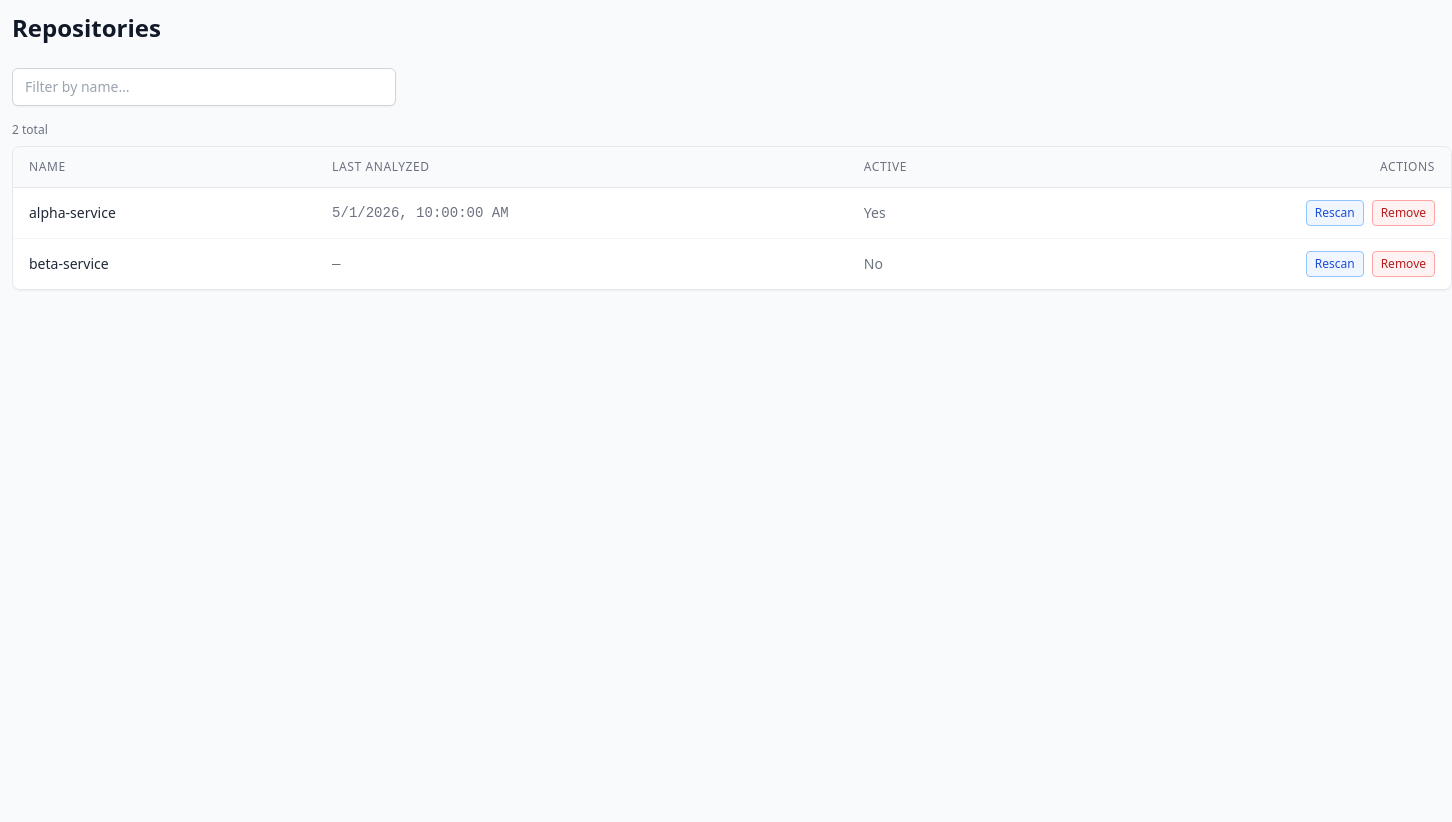
RepositoriesPage › shows success toast after Remove
Click the button "Remove" in the row of "beta-service" at [1403, 264], box [1372,251,1435,277]
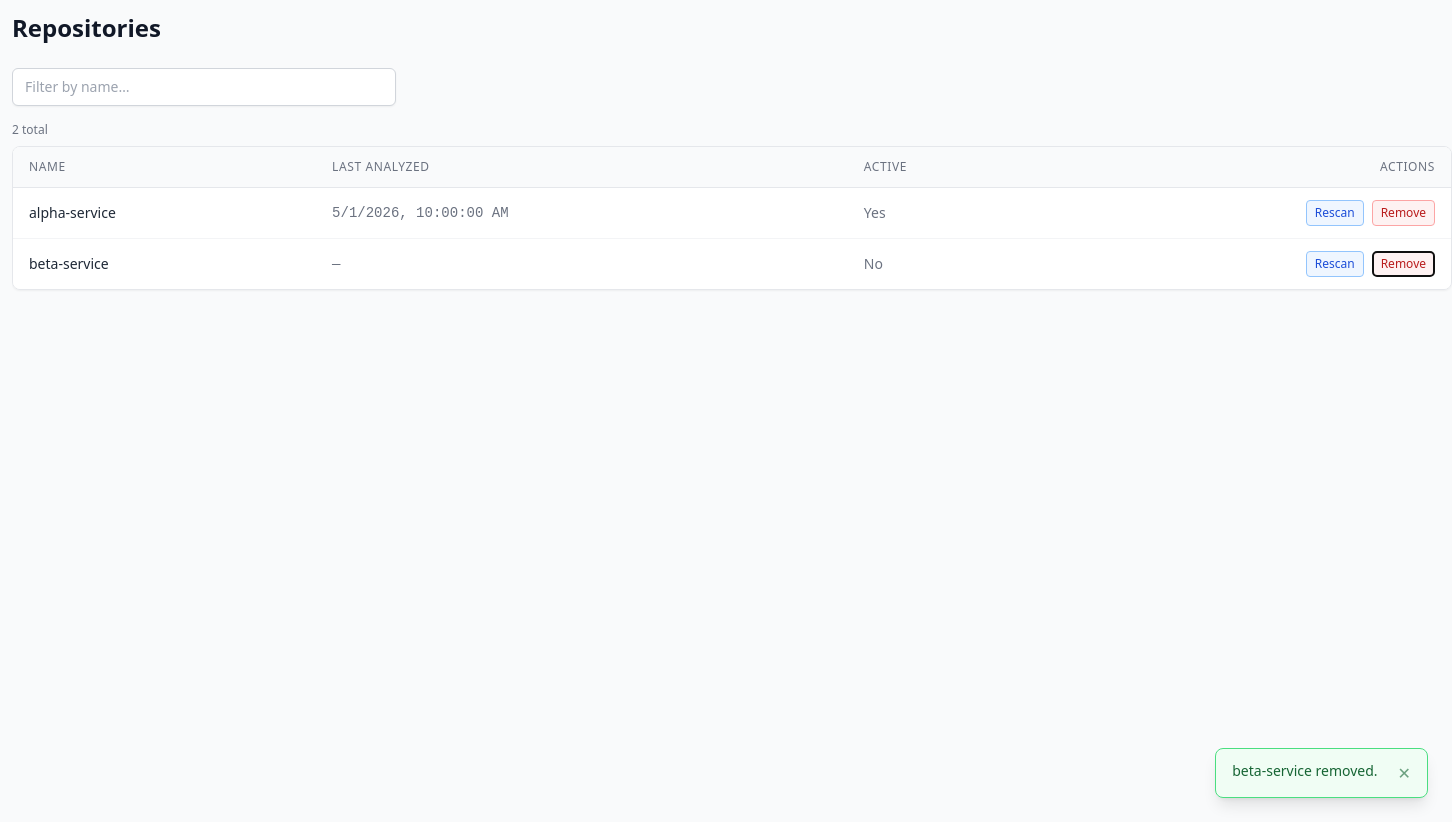
Result: the message shows "beta-service" at [1232,761,1378,780]
